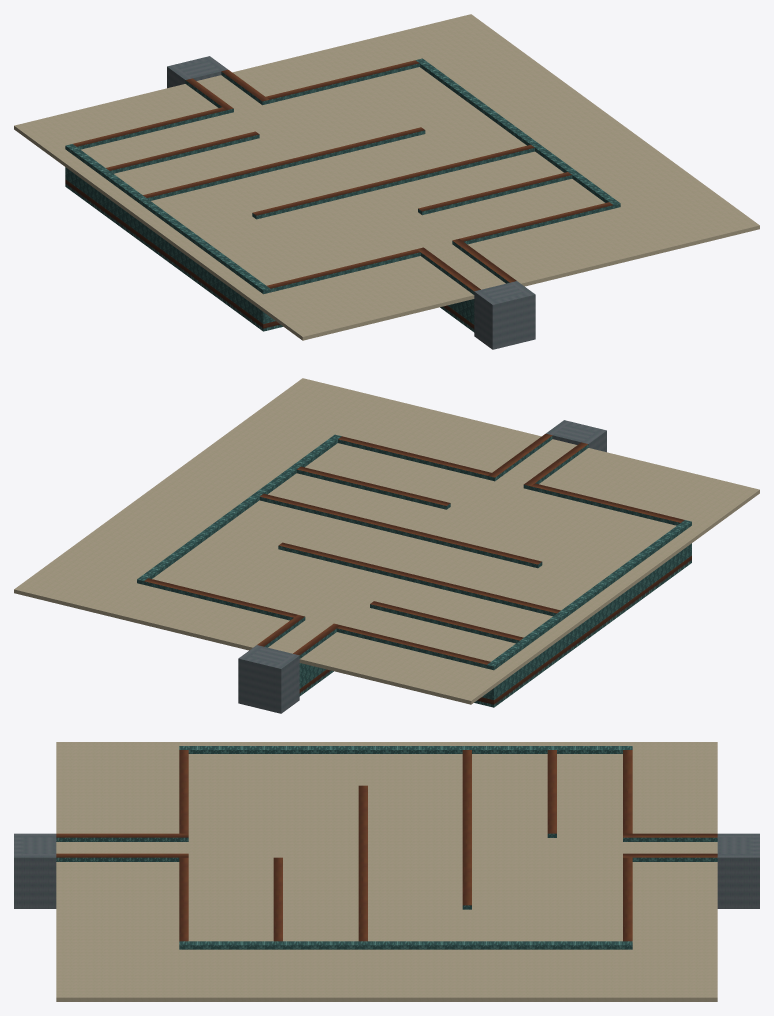
The model's file is level7.fbx.
3 views of the same model, one above another, from view 1: azimuth 30°, elevation 25°; view 2: azimuth 150°, elevation 25°; view 3: azimuth 270°, elevation 25° (orthographic). The views are drawn at different scales.
Visible parts, largest first — view 1: Cube.032, Cube.003, Cube.022, Cube.005, Cube.023, Cube.040, Cube.020, Cube.021, Cube, Cube.042, Cube.011, Cube.012 (+5 smaller); view 2: Cube.032, Cube.003, Cube.022, Cube.014, Cube.023, Cube.040, Cube.012, Cube.002, Cube.021, Cube.011, Cube.020, Cube.042 (+5 smaller); view 3: Cube.032, Cube.040, Cube.003, Cube.016, Cube.006, Cube.023, Cube.022, Cube, Cube.001, Cube.024, Cube.031, Cube.011 (+10 smaller).
Boxes of the visible parts, x1,y1,x2,y2 form: Cube.032: [14, 14, 759, 340]; Cube.003: [65, 144, 270, 331]; Cube.022: [252, 145, 534, 219]; Cube.005: [488, 291, 535, 349]; Cube.023: [143, 127, 425, 200]; Cube.040: [416, 58, 620, 208]; Cube.020: [266, 249, 420, 329]; Cube.021: [418, 172, 572, 215]; Cube: [417, 247, 480, 332]; Cube.042: [265, 60, 419, 103]; Cube.011: [459, 202, 613, 244]; Cube.012: [73, 107, 226, 149]; Cube.032: [14, 378, 759, 704]; Cube.003: [487, 520, 691, 707]; Cube.022: [259, 493, 542, 568]; Cube.014: [238, 655, 285, 713]; Cube.023: [278, 542, 560, 616]; Cube.040: [137, 434, 341, 584]; Cube.012: [337, 625, 490, 705]; Cube.002: [499, 439, 577, 484]; Cube.021: [296, 466, 450, 509]; Cube.011: [338, 436, 491, 479]; Cube.020: [530, 483, 684, 525]; Cube.042: [144, 578, 297, 620]; Cube.032: [56, 742, 717, 1001]; Cube.040: [179, 941, 632, 949]; Cube.003: [179, 746, 632, 753]; Cube.016: [717, 853, 750, 908]; Cube.006: [23, 854, 56, 908]; Cube.023: [462, 750, 471, 909]; Cube.022: [358, 785, 367, 941]; Cube: [56, 833, 188, 841]; Cube.001: [56, 853, 188, 861]; Cube.024: [547, 750, 556, 837]; Cube.031: [623, 833, 717, 841]; Cube.011: [179, 857, 188, 941].
Size of the model in its own units: 25600 by 2400 by 31600.
Materials: 4 (4 with a texture image).
